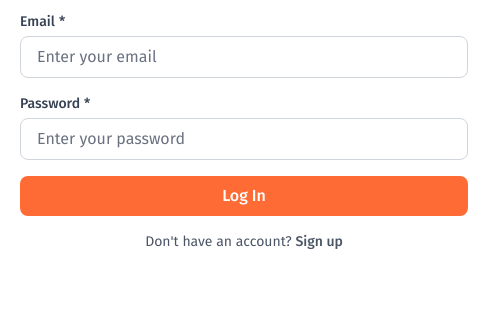
LoginForm Component › Error Handling › should display generic error message for unknown errors
The width and height of the screenshot is (489, 328).
Step 1. Type "test@example.com" into the field labelled "Email*" → x=244, y=57, box [20,36,468,78]
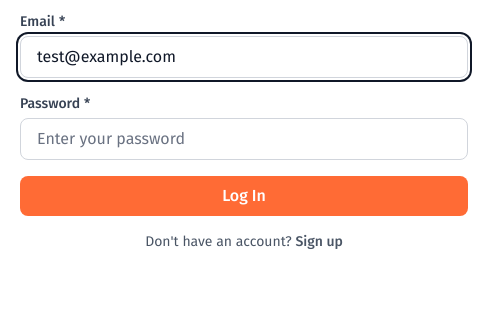
Step 2. Type "password123" into the password field labelled "Password*" → x=244, y=139, box [20,118,468,160]
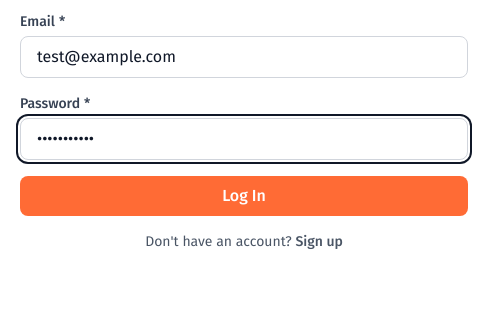
Step 3. Click the button "Log In" → x=244, y=196, box [20,176,468,216]
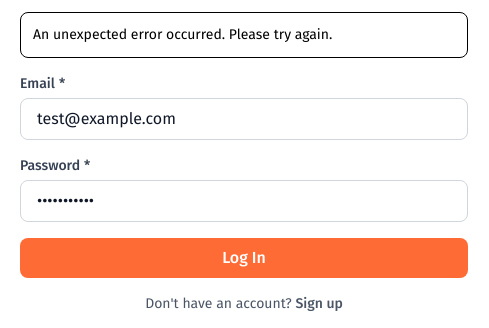
Now the text "An unexpected error occurred. Please try again." is shown, box [20,12,468,58]
